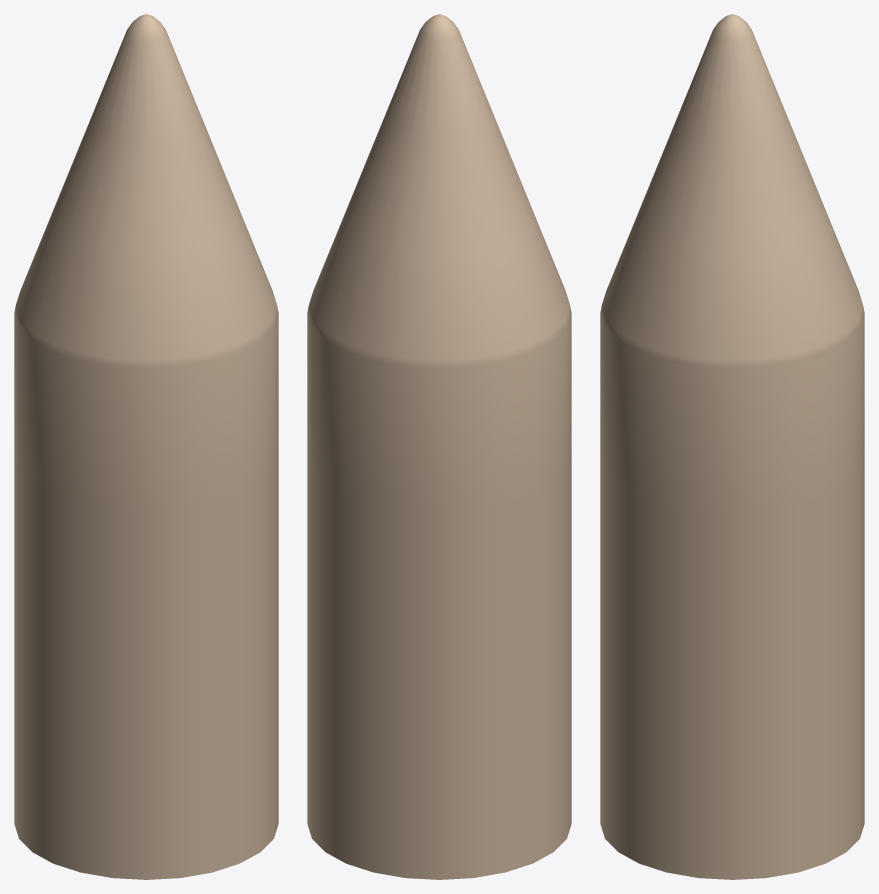
The model's file is fairingnormal.obj.
3 views of the same model, side by side, from view 1: azimuth 30°, elevation 25°; view 2: azimuth 150°, elevation 25°; view 3: azimuth 270°, elevation 25° (orthographic).
Visible parts, largest first — view 1: normal; view 2: normal; view 3: normal.
Part boxes in pixels (bbox=[...]): normal: bbox=[14, 14, 278, 879]; normal: bbox=[307, 14, 571, 879]; normal: bbox=[600, 14, 864, 879].
Bounding box in the file's own units: 1.62 × 5.5 × 1.62.
